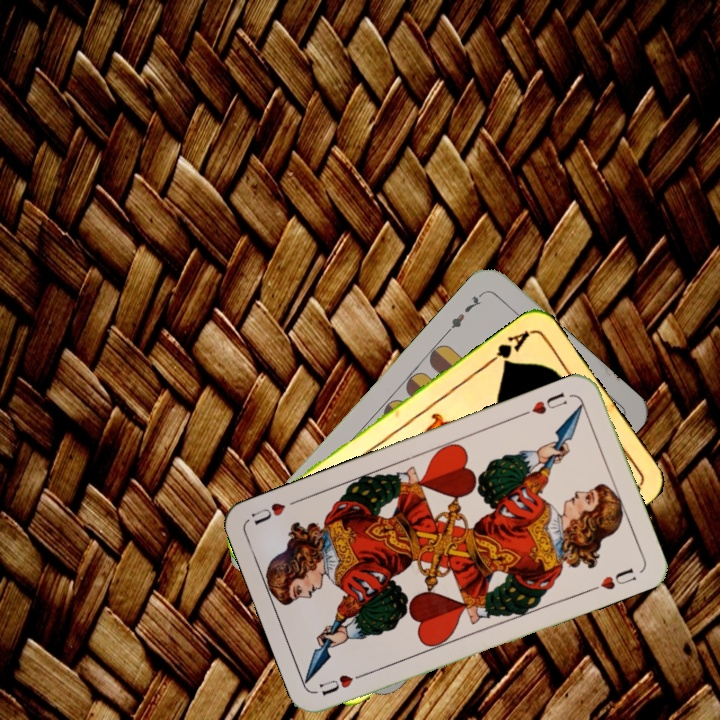E7: (442, 288, 487, 336)
GA: (482, 325, 532, 369)
HU: (315, 668, 371, 698), (527, 388, 570, 417)
